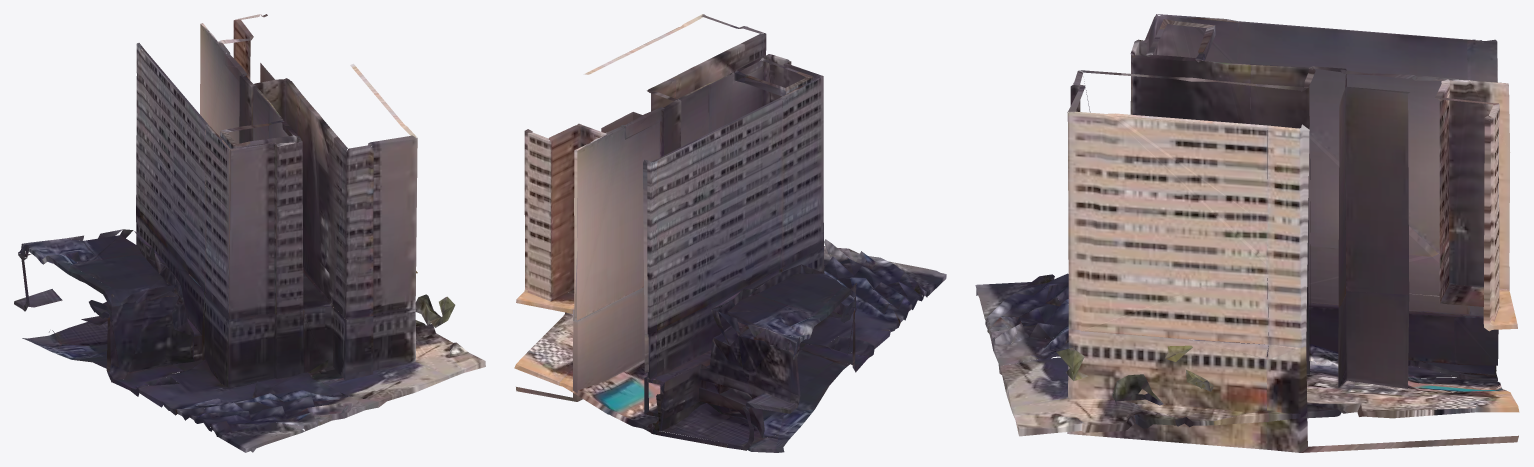
3 views of the same model, side by side, from view 1: azimuth 30°, elevation 25°; view 2: azimuth 150°, elevation 25°; view 3: azimuth 270°, elevation 25° (orthographic). The views are drawn at different scales.
Parts seen in each view (by area): view 1: Mesh_0; view 2: Mesh_0; view 3: Mesh_0.
Part boxes in pixels (<box>): Mesh_0: <box>14,14,485,452</box>; Mesh_0: <box>514,14,946,452</box>; Mesh_0: <box>975,14,1519,452</box>.
Size of the model in its own units: 66.58 by 58.92 by 82.68.
Materials: 2 (2 with a texture image).
